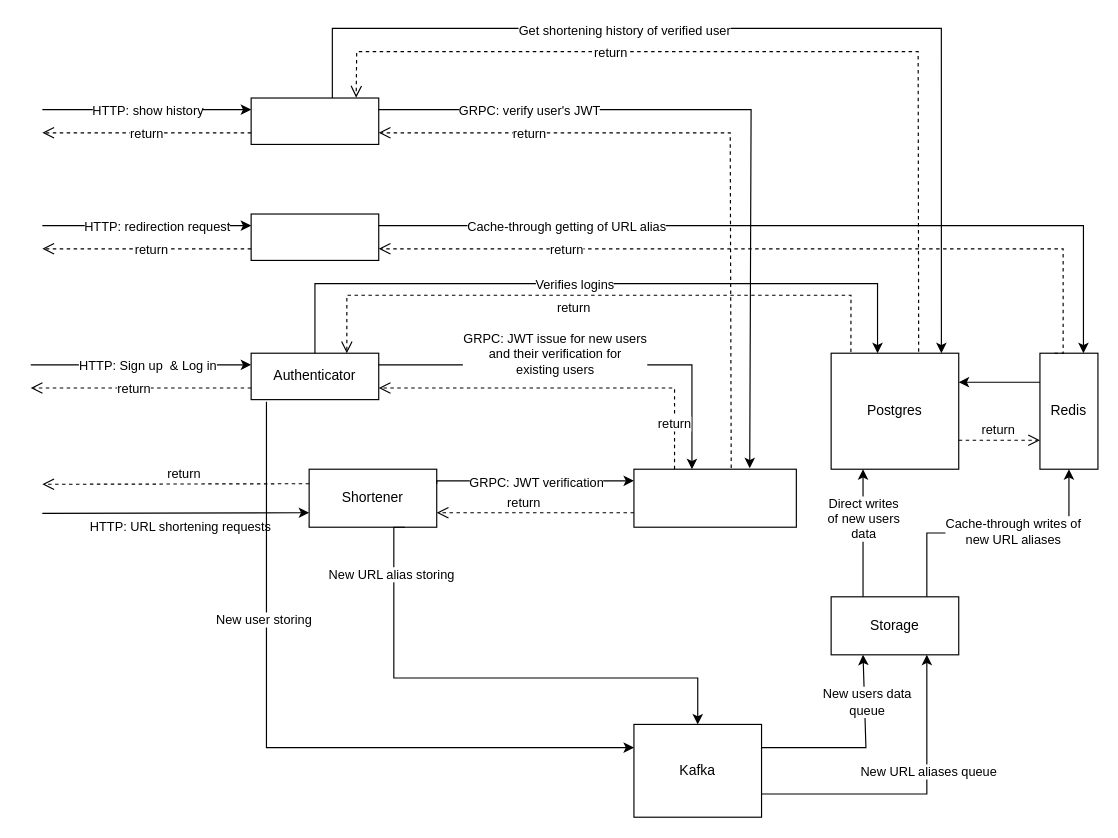
Image size: 1118x838. Some labels were removed from this diagram. The centre of each missing label's shape, as x and y in pixels:
"Blackbox" belongs at [714,497].
"Redirector" belongs at [314,236].
"Viewer" belongs at [314,120].
